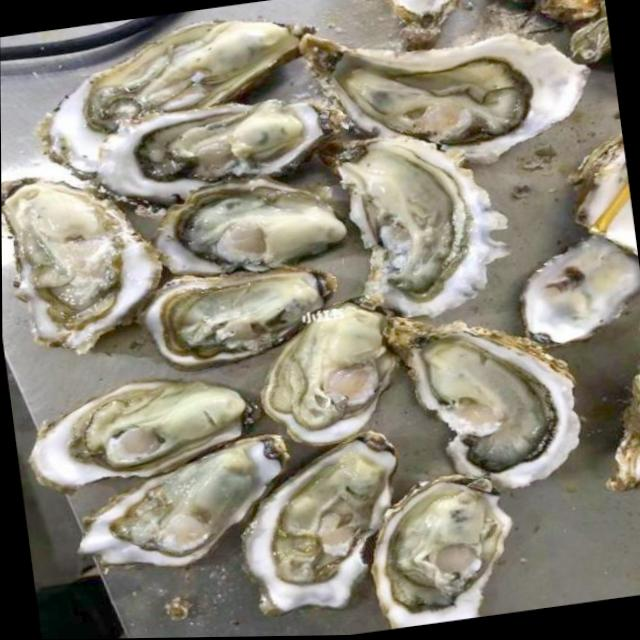Oyster-Indeterminate: (594, 303, 640, 499)
Oyster-Open: (21, 8, 325, 176), (296, 22, 605, 168), (373, 311, 596, 495), (318, 130, 521, 321), (230, 421, 407, 619), (71, 424, 296, 578), (26, 373, 269, 506), (1, 172, 166, 365), (90, 93, 356, 211), (365, 465, 536, 630), (246, 296, 404, 452), (132, 259, 346, 373), (143, 175, 353, 275), (515, 233, 640, 358), (377, 0, 472, 48), (496, 0, 606, 28)
